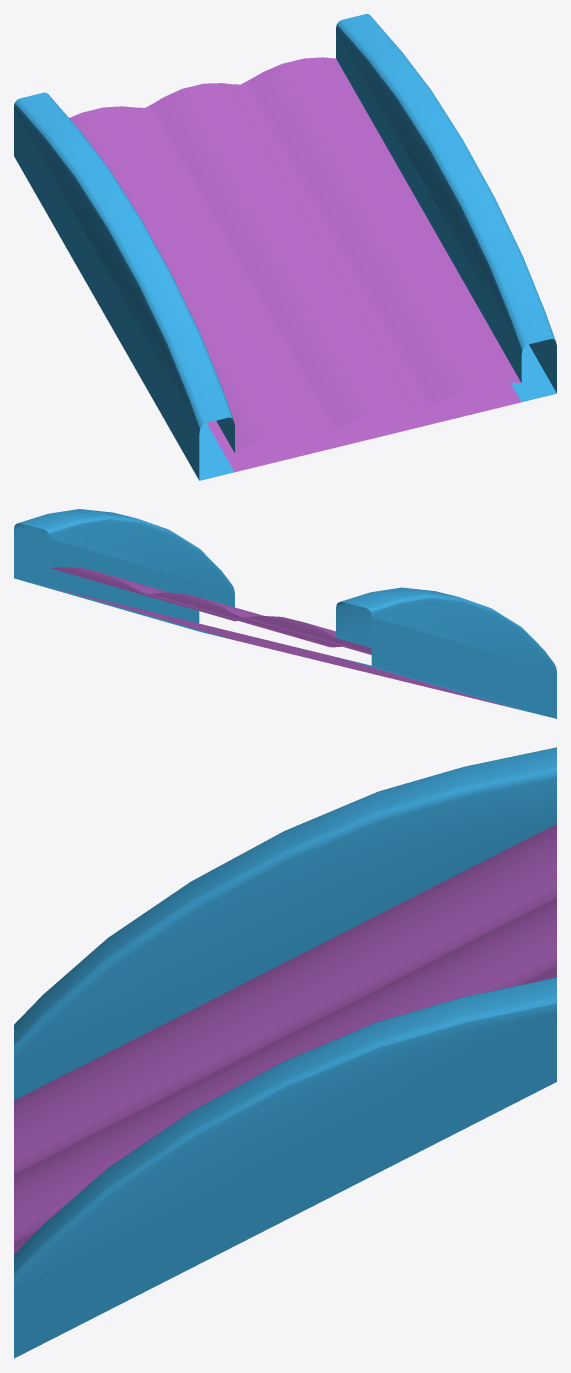
The model's file is Slide2.fbx.
The picture shows the model from 3 angles, top to bottom: view 1: azimuth 30°, elevation 25°; view 2: azimuth 150°, elevation 25°; view 3: azimuth 270°, elevation 25°; orthographic projection. The views are drawn at different scales.
Parts seen in each view (by area): view 1: Slide2; view 2: Slide2; view 3: Slide2.
Boxes of the visible parts, x1,y1,x2,y2 form: Slide2: (14, 14, 556, 480); Slide2: (14, 509, 556, 718); Slide2: (14, 747, 556, 1358).
Size of the model in its own units: 2.48 by 1.63 by 2.23.
